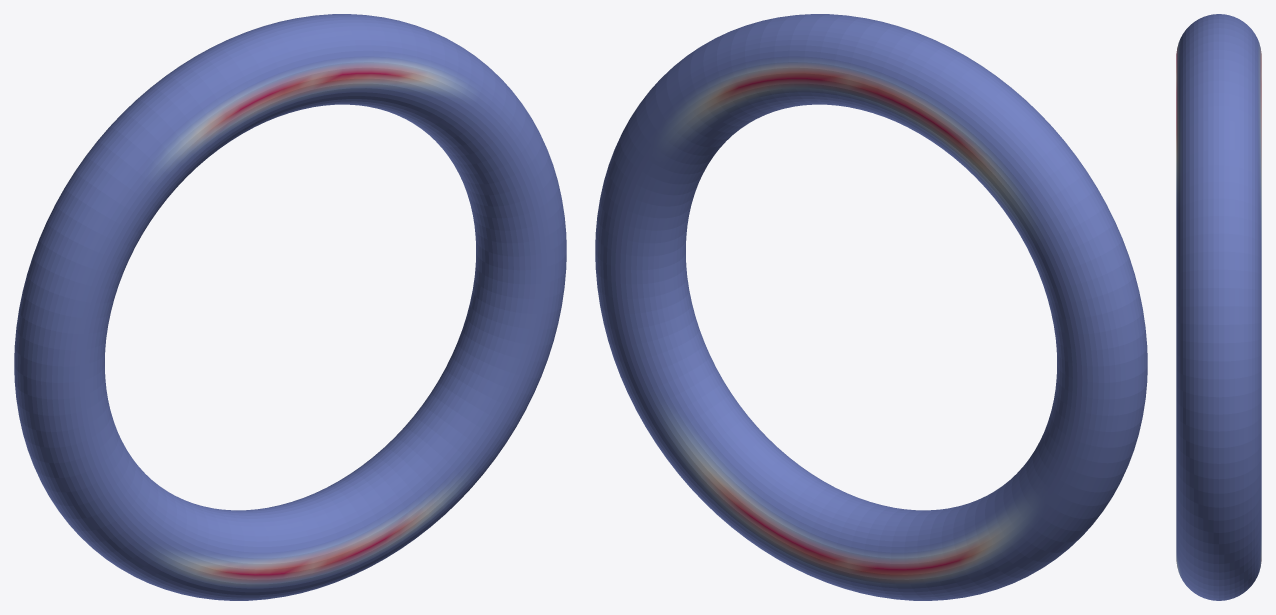
3 views of the same model, side by side, from view 1: azimuth 30°, elevation 25°; view 2: azimuth 150°, elevation 25°; view 3: azimuth 270°, elevation 25° (orthographic). The views are drawn at different scales.
Parts seen in each view (by area): view 1: world; view 2: world; view 3: world.
Part boxes in pixels (bbox=[...]): world: bbox=[14, 14, 566, 600]; world: bbox=[595, 14, 1147, 600]; world: bbox=[1176, 14, 1261, 600].
Bounding box in the file's own units: 15.6 × 15.6 × 2.26.
